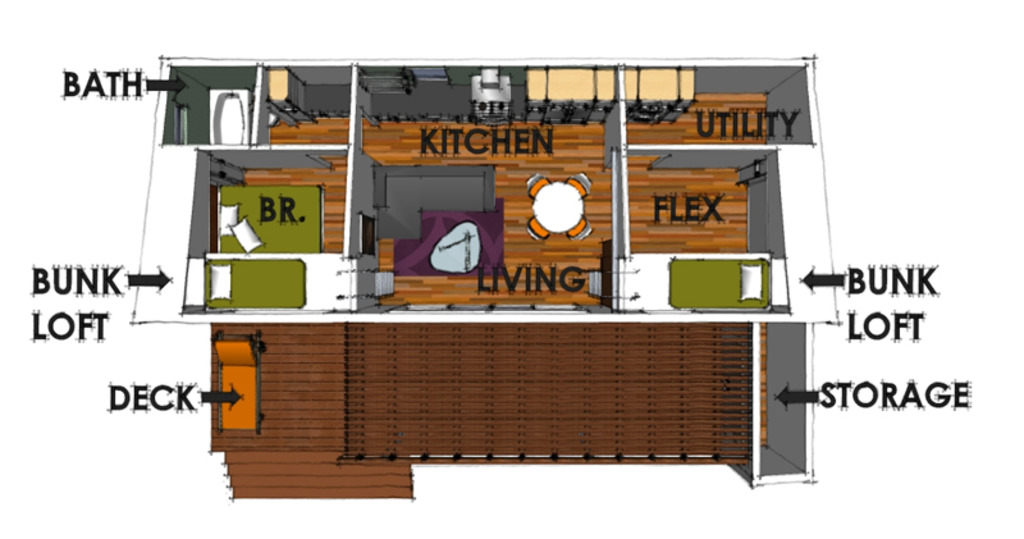bed: (628, 245, 795, 312), (183, 253, 333, 316), (204, 182, 333, 254)
round_table: (516, 165, 597, 240)
tub: (196, 81, 255, 153)
